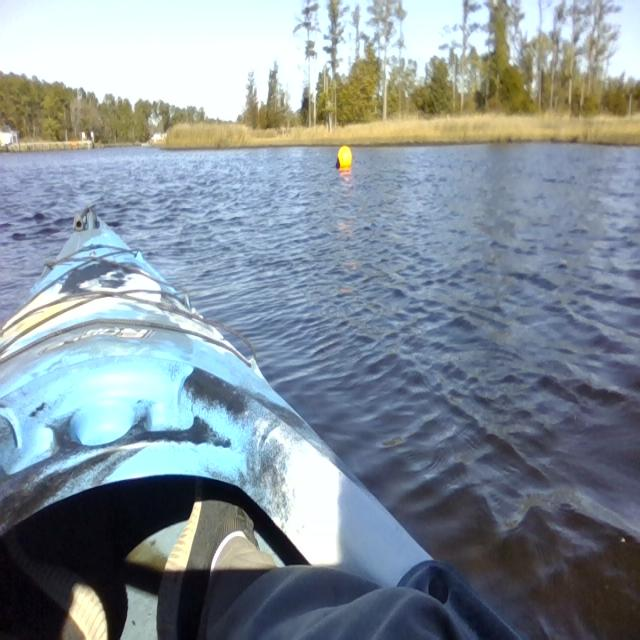Buoy: (333, 142, 353, 176)
